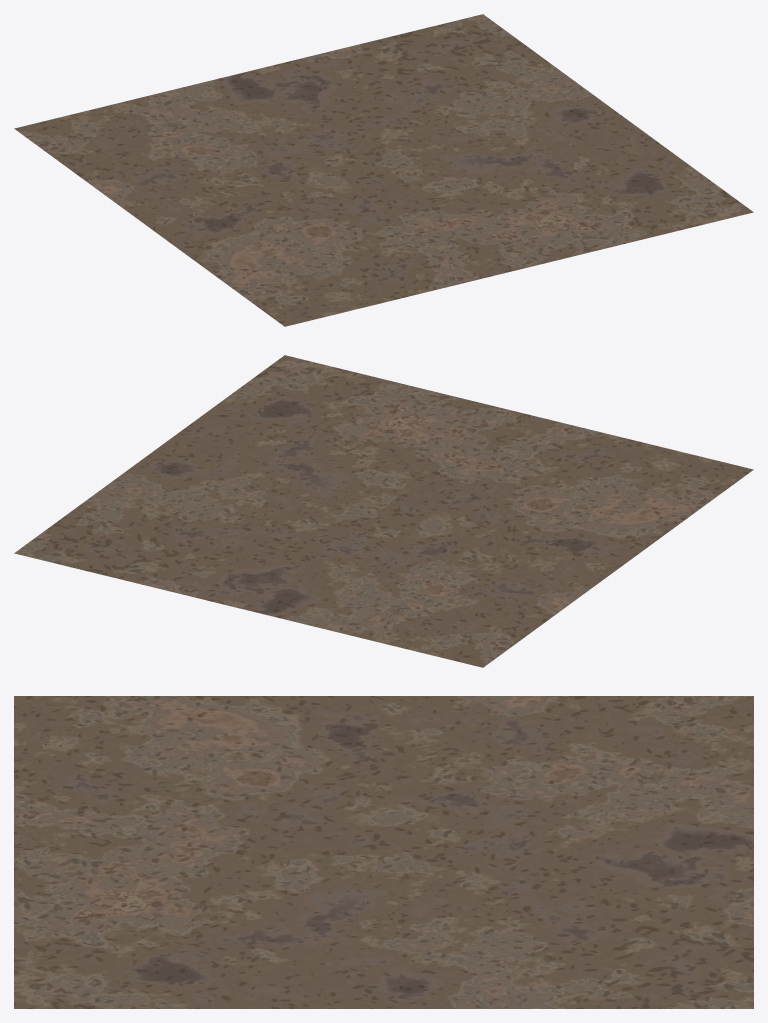
The picture shows the model from 3 angles, top to bottom: view 1: azimuth 30°, elevation 25°; view 2: azimuth 150°, elevation 25°; view 3: azimuth 270°, elevation 25°; orthographic projection. The views are drawn at different scales.
Visible parts, largest first — view 1: Plane001__0 (×2); view 2: Plane001__0 (×2); view 3: Plane001__0 (×2).
Part boxes in pixels (box(x1,y1,x2,y2)): Plane001__0 (×2): box(14, 14, 753, 326); Plane001__0 (×2): box(14, 355, 753, 667); Plane001__0 (×2): box(14, 696, 753, 1008).
Size of the model in its own units: 8873 by 1.97e-12 by 8873.
Materials: 1 (1 with a texture image).
